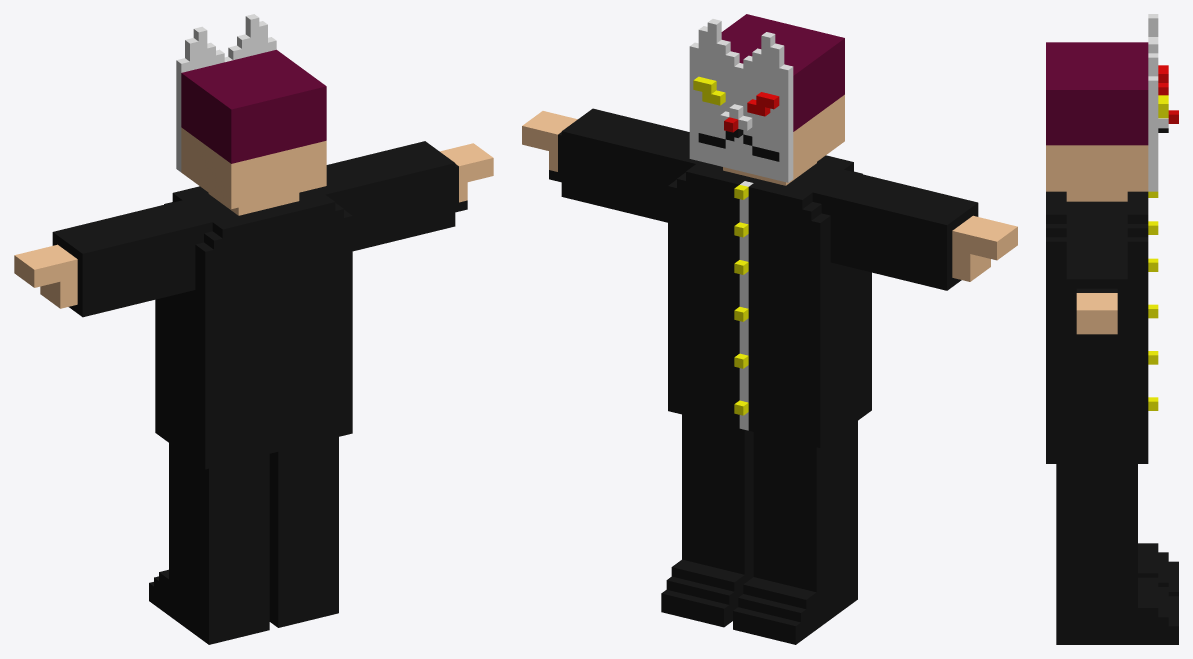
Rendered from player.fbx.
The picture shows the model from 3 angles, left to right: view 1: azimuth 30°, elevation 25°; view 2: azimuth 150°, elevation 25°; view 3: azimuth 270°, elevation 25°; orthographic projection. The views are drawn at different scales.
Visible parts, largest first — view 1: player; view 2: player; view 3: player.
Part boxes in pixels (x1,y1,x2,y2): player: [14, 14, 493, 644]; player: [522, 14, 1017, 644]; player: [1046, 14, 1178, 644].
Bounding box in the file's own units: 530 × 630 × 130.
